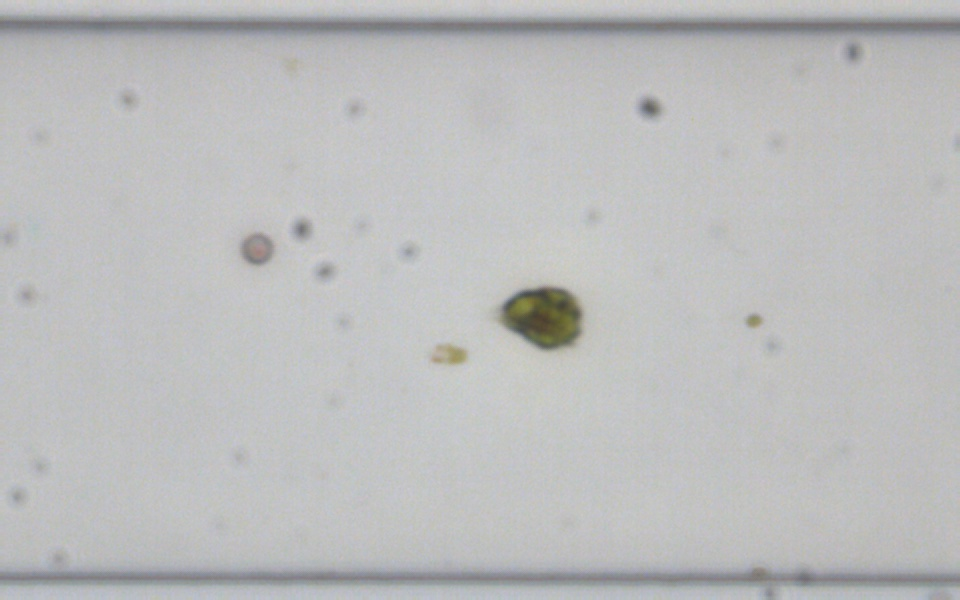Chlorella: (743, 311, 763, 328)
Dunaliella salina: (426, 341, 467, 366)
Haematococcus: (494, 282, 586, 354)
Porphyridium: (238, 231, 275, 266)
